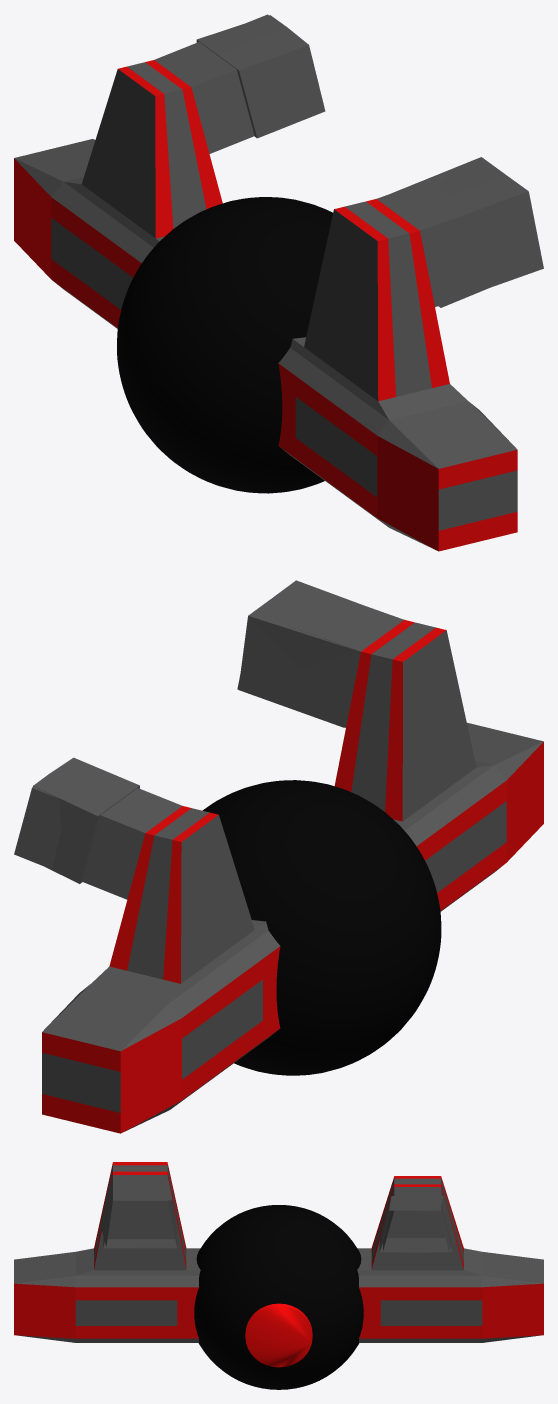
Rendered from Robot_Combatter.fbx.
3 renders of one model, top to bottom at view 1: azimuth 30°, elevation 25°; view 2: azimuth 150°, elevation 25°; view 3: azimuth 270°, elevation 25°, orthographic. The views are drawn at different scales.
Parts seen in each view (by area): view 1: Cube; view 2: Cube; view 3: Cube.
Boxes of the visible parts, x1=… form: Cube: x1=14, y1=14, x2=543, y2=551; Cube: x1=14, y1=580, x2=543, y2=1133; Cube: x1=14, y1=1162, x2=543, y2=1389.
Size of the model in its own units: 208 by 260 by 565.
